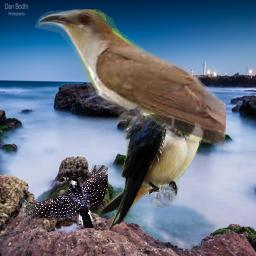Cuckoo: (35, 9, 226, 149)
Swallow: (98, 81, 204, 231)
Woodpecker: (22, 165, 108, 228)
